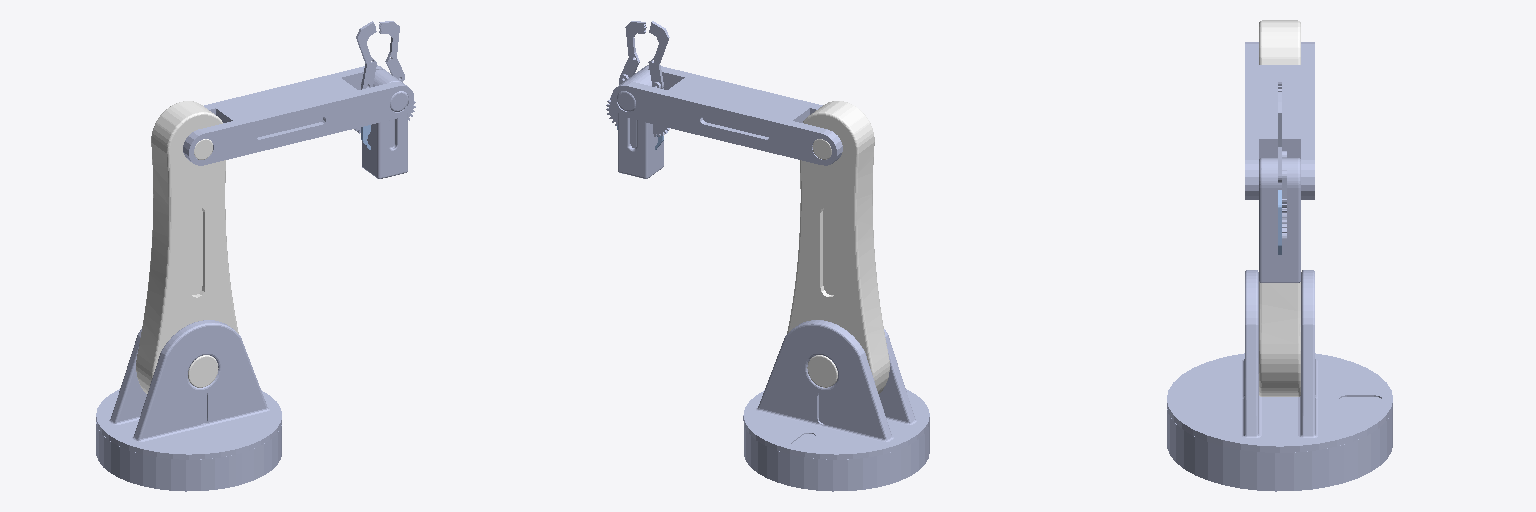
robot.urdf — robot-7_urdf:
<?xml version="1.0" encoding="utf-8" ?>
<!-- This URDF was automatically created by SolidWorks to URDF Exporter! Originally created by [author] ([email redacted]) 
     Commit Version: 1.6.0-4-g7f85cfe  Build Version: 1.6.7995.38578
     For more information, please see http://wiki.ros.org/sw_urdf_exporter -->
<robot name="robot-7_urdf">
    <link name="base_link">
        
<inertial>
            <origin xyz="0.061563 0.077587 0.12563" rpy="0 0 0" />
            <mass value="0.56345" />
            <inertia ixx="0.0010017" ixy="1.0232E-56" ixz="3.0292E-25" iyy="0.0019178" iyz="-2.0162E-08" izz="0.0010017" />
        </inertial>

        <visual>
            <origin xyz="0 0 0" rpy="0 0 0" />
            <geometry>
                <mesh filename="package://robot-7_urdf/meshes/base_link.STL" />
            </geometry>
            <material name="">
                <color rgba="0.79216 0.81961 0.93333 1" />
            </material>
        </visual>
        <collision>
            <origin xyz="0 0 0" rpy="0 0 0" />
            <geometry>
                <mesh filename="package://robot-7_urdf/meshes/base_link.STL" />
            </geometry>
        </collision>
    </link>
    <link name="Empty_Link1">
        
<inertial>
            <origin xyz="3.0054E-10 0.043245 6.2828E-05" rpy="0 0 0" />
            <mass value="0.29972" />
            <inertia ixx="0.00050535" ixy="1.0977E-12" ixz="-4.2929E-10" iyy="0.00054806" iyz="3.5297E-07" izz="0.00059113" />
        </inertial>

        <visual>
            <origin xyz="0 0 0" rpy="0 0 0" />
            <geometry>
                <mesh filename="package://robot-7_urdf/meshes/Empty_Link1.STL" />
            </geometry>
            <material name="">
                <color rgba="0.79216 0.81961 0.93333 1" />
            </material>
        </visual>
        <collision>
            <origin xyz="0 0 0" rpy="0 0 0" />
            <geometry>
                <mesh filename="package://robot-7_urdf/meshes/Empty_Link1.STL" />
            </geometry>
        </collision>
    </link>
    <joint name="j1" type="revolute">
        <origin xyz="0.061563 -0.12563 0.072924" rpy="1.5708 0 0" />
        <parent link="base_link" />
        <child link="Empty_Link1" />
        <axis xyz="0 1 0" />
        <limit lower="0" upper="3.142" effort="300" velocity="3" />
    </joint>
    <link name="Empty_Link2">
        
<inertial>
            <origin xyz="0.085091 4.4409E-16 1.5646E-08" rpy="0 0 0" />
            <mass value="0.55672" />
            <inertia ixx="0.00026231" ixy="1.3603E-10" ixz="-5.7507E-09" iyy="0.0039041" iyz="1.4532E-10" izz="0.0037366" />
        </inertial>

        <visual>
            <origin xyz="0 0 0" rpy="0 0 0" />
            <geometry>
                <mesh filename="package://robot-7_urdf/meshes/Empty_Link2.STL" />
            </geometry>
            <material name="">
                <color rgba="1 1 1 1" />
            </material>
        </visual>
        <collision>
            <origin xyz="0 0 0" rpy="0 0 0" />
            <geometry>
                <mesh filename="package://robot-7_urdf/meshes/Empty_Link2.STL" />
            </geometry>
        </collision>
    </link>
    <joint name="j2" type="revolute">
        <origin xyz="0 0.07607 0" rpy="-1.5708 0 1.5708" />
        <parent link="Empty_Link1" />
        <child link="Empty_Link2" />
        <axis xyz="0 1 0" />
        <limit lower="-1.57" upper="1.57" effort="200" velocity="3" />
    </joint>
    <link name="Empty_Link3">
        
<inertial>
            <origin xyz="0.09721 -1.9429E-16 0" rpy="0 0 0" />
            <mass value="0.22463" />
            <inertia ixx="7.1602E-05" ixy="-1.7243E-20" ixz="-2.4624E-21" iyy="0.00055563" iyz="-2.4525E-21" izz="0.00059212" />
        </inertial>

        <visual>
            <origin xyz="0 0 0" rpy="0 0 0" />
            <geometry>
                <mesh filename="package://robot-7_urdf/meshes/Empty_Link3.STL" />
            </geometry>
            <material name="">
                <color rgba="0.79216 0.81961 0.93333 1" />
            </material>
        </visual>
        <collision>
            <origin xyz="0 0 0" rpy="0 0 0" />
            <geometry>
                <mesh filename="package://robot-7_urdf/meshes/Empty_Link3.STL" />
            </geometry>
        </collision>
    </link>
    <joint name="j3" type="revolute">
        <origin xyz="0.21057 0 0" rpy="3.1416 1.5708 0" />
        <parent link="Empty_Link2" />
        <child link="Empty_Link3" />
        <axis xyz="0 -1 0" />
        <limit lower="-1.57" upper="0" effort="200" velocity="3" />
    </joint>
    <link name="Empty_Link4">
        
<inertial>
            <origin xyz="0.028682 1.0774E-05 0" rpy="0 0 0" />
            <mass value="0.081909" />
            <inertia ixx="1.3775E-05" ixy="-4.0758E-09" ixz="-1.2588E-21" iyy="5.9068E-05" iyz="5.4815E-21" izz="6.1394E-05" />
        </inertial>

        <visual>
            <origin xyz="0 0 0" rpy="0 0 0" />
            <geometry>
                <mesh filename="package://robot-7_urdf/meshes/Empty_Link4.STL" />
            </geometry>
            <material name="">
                <color rgba="0.79216 0.81961 0.93333 1" />
            </material>
        </visual>
        <collision>
            <origin xyz="0 0 0" rpy="0 0 0" />
            <geometry>
                <mesh filename="package://robot-7_urdf/meshes/Empty_Link4.STL" />
            </geometry>
        </collision>
    </link>
    <joint name="j4" type="revolute">
        <origin xyz="0.19397 0 0" rpy="0 -1.5708 0" />
        <parent link="Empty_Link3" />
        <child link="Empty_Link4" />
        <axis xyz="0 1 0" />
        <limit lower="-1.57" upper="1.57" effort="200" velocity="3" />
    </joint>
    <link name="Empty_Link5">
        
<inertial>
            <origin xyz="1.1102E-15 -0.0038499 -9.5809E-07" rpy="0 0 0" />
            <mass value="0.0018438" />
            <inertia ixx="7.899E-08" ixy="1.1667E-24" ixz="8.2111E-24" iyy="1.2983E-07" iyz="-2.0317E-12" izz="6.1325E-08" />
        </inertial>

        <visual>
            <origin xyz="0 0 0" rpy="0 0 0" />
            <geometry>
                <mesh filename="package://robot-7_urdf/meshes/Empty_Link5.STL" />
            </geometry>
            <material name="">
                <color rgba="0.79216 0.81961 0.93333 1" />
            </material>
        </visual>
        <collision>
            <origin xyz="0 0 0" rpy="0 0 0" />
            <geometry>
                <mesh filename="package://robot-7_urdf/meshes/Empty_Link5.STL" />
            </geometry>
        </collision>
    </link>
    <joint name="j5" type="revolute">
        <origin xyz="0.071 0 0" rpy="1.5708 1.5708 0" />
        <parent link="Empty_Link4" />
        <child link="Empty_Link5" />
        <axis xyz="0 1 0" />
        <limit lower="0" upper="1.57" effort="200" velocity="3" />
    </joint>
    <link name="Empty_Link6">
        
<inertial>
            <origin xyz="-0.0027341 -0.0035 0" rpy="0 0 0" />
            <mass value="0.0016054" />
            <inertia ixx="6.4409E-08" ixy="2.7297E-23" ixz="-1.0479E-23" iyy="8.0269E-08" iyz="9.3115E-23" izz="4.0888E-08" />
        </inertial>

        <visual>
            <origin xyz="0 0 0" rpy="0 0 0" />
            <geometry>
                <mesh filename="package://robot-7_urdf/meshes/Empty_Link6.STL" />
            </geometry>
            <material name="">
                <color rgba="0.79216 0.81961 0.93333 1" />
            </material>
        </visual>
        <collision>
            <origin xyz="0 0 0" rpy="0 0 0" />
            <geometry>
                <mesh filename="package://robot-7_urdf/meshes/Empty_Link6.STL" />
            </geometry>
        </collision>
    </link>
    <joint name="j6" type="fixed">
        <origin xyz="0 -0.008 0.0037499" rpy="1.5708 0 1.5708" />
        <parent link="Empty_Link5" />
        <child link="Empty_Link6" />
        <axis xyz="0 0 0" />
    </joint>
    <link name="Empty_Link7">
        
<inertial>
            <origin xyz="-0.00060632 0.0015 -0.032675" rpy="0 0 0" />
            <mass value="0.0046422" />
            <inertia ixx="1.5079E-06" ixy="-7.9686E-16" ixz="5.7483E-08" iyy="2.3443E-06" iyz="9.215E-15" izz="8.433E-07" />
        </inertial>

        <visual>
            <origin xyz="0 0 0" rpy="0 0 0" />
            <geometry>
                <mesh filename="package://robot-7_urdf/meshes/Empty_Link7.STL" />
            </geometry>
            <material name="">
                <color rgba="0.71765 0.83137 1 1" />
            </material>
        </visual>
        <collision>
            <origin xyz="0 0 0" rpy="0 0 0" />
            <geometry>
                <mesh filename="package://robot-7_urdf/meshes/Empty_Link7.STL" />
            </geometry>
        </collision>
    </link>
    <joint name="j7" type="fixed">
        <origin xyz="-0.0047784 -0.005 0" rpy="0 1.5708 0" />
        <parent link="Empty_Link6" />
        <child link="Empty_Link7" />
        <axis xyz="0 0 0" />
    </joint>
    <link name="Empty_Link8a">
        
<inertial>
            <origin xyz="0.0015 0 0.004347" rpy="0 0 0" />
            <mass value="0.0024861" />
            <inertia ixx="4.5962E-07" ixy="-4.1548E-22" ixz="-1.6086E-22" iyy="3.4385E-07" iyz="-4.7439E-22" izz="1.195E-07" />
        </inertial>

        <visual>
            <origin xyz="0 0 0" rpy="0 0 0" />
            <geometry>
                <mesh filename="package://robot-7_urdf/meshes/Empty_Link8a.STL" />
            </geometry>
            <material name="">
                <color rgba="0.79216 0.81961 0.93333 1" />
            </material>
        </visual>
        <collision>
            <origin xyz="0 0 0" rpy="0 0 0" />
            <geometry>
                <mesh filename="package://robot-7_urdf/meshes/Empty_Link8a.STL" />
            </geometry>
        </collision>
    </link>
    <joint name="j8a" type="revolute">
        <origin xyz="0.0155 0.003 -0.036764" rpy="3.0838 0 1.5708" />
        <parent link="Empty_Link7" />
        <child link="Empty_Link8a" />
        <axis xyz="-1 0 0" />
        <limit lower="0" upper="0.75" effort="200" velocity="3" />
    </joint>
    <link name="Empty_Link9a">
        
<inertial>
            <origin xyz="0.01615 0.0015 -0.0055225" rpy="0 0 0" />
            <mass value="0.0017526" />
            <inertia ixx="6.6124E-08" ixy="1.3982E-22" ixz="1.4858E-07" iyy="6.6228E-07" iyz="2.7618E-23" izz="5.9879E-07" />
        </inertial>

        <visual>
            <origin xyz="0 0 0" rpy="0 0 0" />
            <geometry>
                <mesh filename="package://robot-7_urdf/meshes/Empty_Link9a.STL" />
            </geometry>
            <material name="">
                <color rgba="0.79216 0.81961 0.93333 1" />
            </material>
        </visual>
        <collision>
            <origin xyz="0 0 0" rpy="0 0 0" />
            <geometry>
                <mesh filename="package://robot-7_urdf/meshes/Empty_Link9a.STL" />
            </geometry>
        </collision>
    </link>
    <joint name="j9a" type="fixed">
        <origin xyz="0 -0.00287212163920531 0.042257217214014" rpy="3.14159265358979 -1.32098963102278 -1.5707963267949" />
        <parent link="Empty_Link8a" />
        <child link="Empty_Link9a" />
        <axis xyz="0 0 0" />
    </joint>
    <link name="Empty_Link8b">
        
<inertial>
            <origin xyz="0.0015 5.5511E-17 0.004347" rpy="0 0 0" />
            <mass value="0.0024861" />
            <inertia ixx="4.5962E-07" ixy="-3.965E-22" ixz="5.45E-23" iyy="3.4385E-07" iyz="-4.7087E-22" izz="1.195E-07" />
        </inertial>

        <visual>
            <origin xyz="0 0 0" rpy="0 0 0" />
            <geometry>
                <mesh filename="package://robot-7_urdf/meshes/Empty_Link8b.STL" />
            </geometry>
            <material name="">
                <color rgba="0.79216 0.81961 0.93333 1" />
            </material>
        </visual>
        <collision>
            <origin xyz="0 0 0" rpy="0 0 0" />
            <geometry>
                <mesh filename="package://robot-7_urdf/meshes/Empty_Link8b.STL" />
            </geometry>
        </collision>
    </link>
    <joint name="j8b" type="revolute">
        <origin xyz="-0.0155 0.003 -0.036764" rpy="3.1121 0 1.5708" />
        <parent link="Empty_Link7" />
        <child link="Empty_Link8b" />
        <axis xyz="-1 0 0" />
        <limit lower="-0.75" upper="0" effort="200" velocity="3" />
    </joint>
    <link name="Empty_Link9b">
        
<inertial>
            <origin xyz="0.01615 0.0015 -0.0055225" rpy="0 0 0" />
            <mass value="0.0017526" />
            <inertia ixx="6.6124E-08" ixy="-1.7195E-21" ixz="1.4858E-07" iyy="6.6228E-07" iyz="4.3267E-22" izz="5.9879E-07" />
        </inertial>

        <visual>
            <origin xyz="0 0 0" rpy="0 0 0" />
            <geometry>
                <mesh filename="package://robot-7_urdf/meshes/Empty_Link9b.STL" />
            </geometry>
            <material name="">
                <color rgba="0.79216 0.81961 0.93333 1" />
            </material>
        </visual>
        <collision>
            <origin xyz="0 0 0" rpy="0 0 0" />
            <geometry>
                <mesh filename="package://robot-7_urdf/meshes/Empty_Link9b.STL" />
            </geometry>
        </collision>
    </link>
    <joint name="j9b" type="fixed">
        <origin xyz="-0.00299999999999617 0.00439559096559838 0.0417541992810722" rpy="3.14159265358979 -1.18278465716093 1.5707963267949" />
        <parent link="Empty_Link8b" />
        <child link="Empty_Link9b" />
        <axis xyz="0 0 0" />
    </joint>
    
<transmission name="trans_j1">
        <type>transmission_interface/SimpleTransmission</type>
        <joint name="j1">
            <hardwareInterface>hardware_interface/EffortJointInterface</hardwareInterface>
        </joint>
        <actuator name="j1_motor">
            <hardwareInterface>hardware_interface/EffortJointInterface</hardwareInterface>
            <mechanicalReduction>1</mechanicalReduction>
        </actuator>
    </transmission>
    <transmission name="trans_j2">
        <type>transmission_interface/SimpleTransmission</type>
        <joint name="j2">
            <hardwareInterface>hardware_interface/EffortJointInterface</hardwareInterface>
        </joint>
        <actuator name="j2_motor">
            <hardwareInterface>hardware_interface/EffortJointInterface</hardwareInterface>
            <mechanicalReduction>1</mechanicalReduction>
        </actuator>
    </transmission>
    <transmission name="trans_j3">
        <type>transmission_interface/SimpleTransmission</type>
        <joint name="j3">
            <hardwareInterface>hardware_interface/EffortJointInterface</hardwareInterface>
        </joint>
        <actuator name="j3_motor">
            <hardwareInterface>hardware_interface/EffortJointInterface</hardwareInterface>
            <mechanicalReduction>1</mechanicalReduction>
        </actuator>
    </transmission>
    <transmission name="trans_j4">
        <type>transmission_interface/SimpleTransmission</type>
        <joint name="j4">
            <hardwareInterface>hardware_interface/EffortJointInterface</hardwareInterface>
        </joint>
        <actuator name="j4_motor">
            <hardwareInterface>hardware_interface/EffortJointInterface</hardwareInterface>
            <mechanicalReduction>1</mechanicalReduction>
        </actuator>
    </transmission>
    <transmission name="trans_j5">
        <type>transmission_interface/SimpleTransmission</type>
        <joint name="j5">
            <hardwareInterface>hardware_interface/EffortJointInterface</hardwareInterface>
        </joint>
        <actuator name="j5_motor">
            <hardwareInterface>hardware_interface/EffortJointInterface</hardwareInterface>
            <mechanicalReduction>1</mechanicalReduction>
        </actuator>
    </transmission>
    <transmission name="trans_j8a">
        <type>transmission_interface/SimpleTransmission</type>
        <joint name="j8a">
            <hardwareInterface>hardware_interface/EffortJointInterface</hardwareInterface>
        </joint>
        <actuator name="j8a_motor">
            <hardwareInterface>hardware_interface/EffortJointInterface</hardwareInterface>
            <mechanicalReduction>1</mechanicalReduction>
        </actuator>
    </transmission>
    <transmission name="trans_j8b">
        <type>transmission_interface/SimpleTransmission</type>
        <joint name="j8b">
            <hardwareInterface>hardware_interface/EffortJointInterface</hardwareInterface>
        </joint>
        <actuator name="j8b_motor">
            <hardwareInterface>hardware_interface/EffortJointInterface</hardwareInterface>
            <mechanicalReduction>1</mechanicalReduction>
        </actuator>
    </transmission>
    <gazebo>
        <plugin name="gazebo_ros_control" filename="libgazebo_ros_control.so">
            <robotNamespace>/</robotNamespace>
        </plugin>
    </gazebo>
</robot>

--- Render facts (derived) ---
The picture shows the robot from 3 angles, left to right: view 1: azimuth 30°, elevation 25°; view 2: azimuth 150°, elevation 25°; view 3: azimuth 270°, elevation 25°; orthographic projection.
Model robot-7_urdf with 12 links and 11 joints (7 revolute, 4 fixed), rooted at base_link, posed all joints at 0.
Visible links, largest first — view 1: Empty_Link2, Empty_Link1, Empty_Link3, base_link, Empty_Link4, Empty_Link9a, Empty_Link9b; view 2: Empty_Link2, Empty_Link1, Empty_Link3, base_link, Empty_Link4, Empty_Link9a, Empty_Link9b; view 3: Empty_Link1, base_link, Empty_Link3, Empty_Link2, Empty_Link4.
Boxes of the visible links, x1,y1,x2,y2 form: Empty_Link2: [136, 101, 238, 393]; Empty_Link1: [96, 320, 281, 459]; Empty_Link3: [183, 65, 413, 165]; base_link: [96, 422, 281, 491]; Empty_Link4: [362, 69, 408, 178]; Empty_Link9a: [356, 21, 376, 88]; Empty_Link9b: [379, 21, 404, 81]; Empty_Link2: [787, 101, 889, 393]; Empty_Link1: [743, 320, 929, 459]; Empty_Link3: [611, 65, 842, 165]; base_link: [744, 422, 929, 491]; Empty_Link4: [617, 69, 663, 178]; Empty_Link9a: [648, 21, 669, 88]; Empty_Link9b: [620, 21, 646, 77]; Empty_Link1: [1167, 270, 1392, 452]; base_link: [1167, 409, 1392, 491]; Empty_Link3: [1245, 42, 1314, 199]; Empty_Link2: [1259, 20, 1300, 396]; Empty_Link4: [1259, 158, 1300, 282].
Size in the robot's own frame: 0.3057 by 0.16 by 0.3653 metres.
12 mesh visuals loaded from 12 distinct referenced files (12 binary STL).